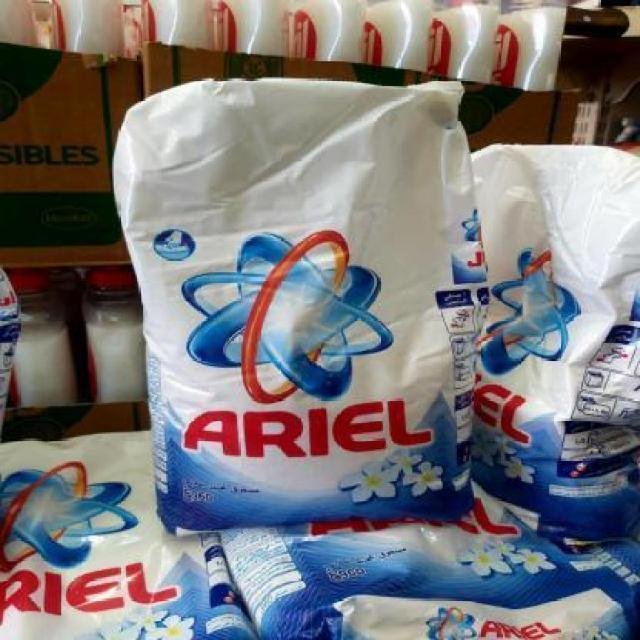Detergent: (110, 83, 470, 529), (472, 128, 640, 506), (227, 501, 626, 640), (0, 433, 252, 639)
